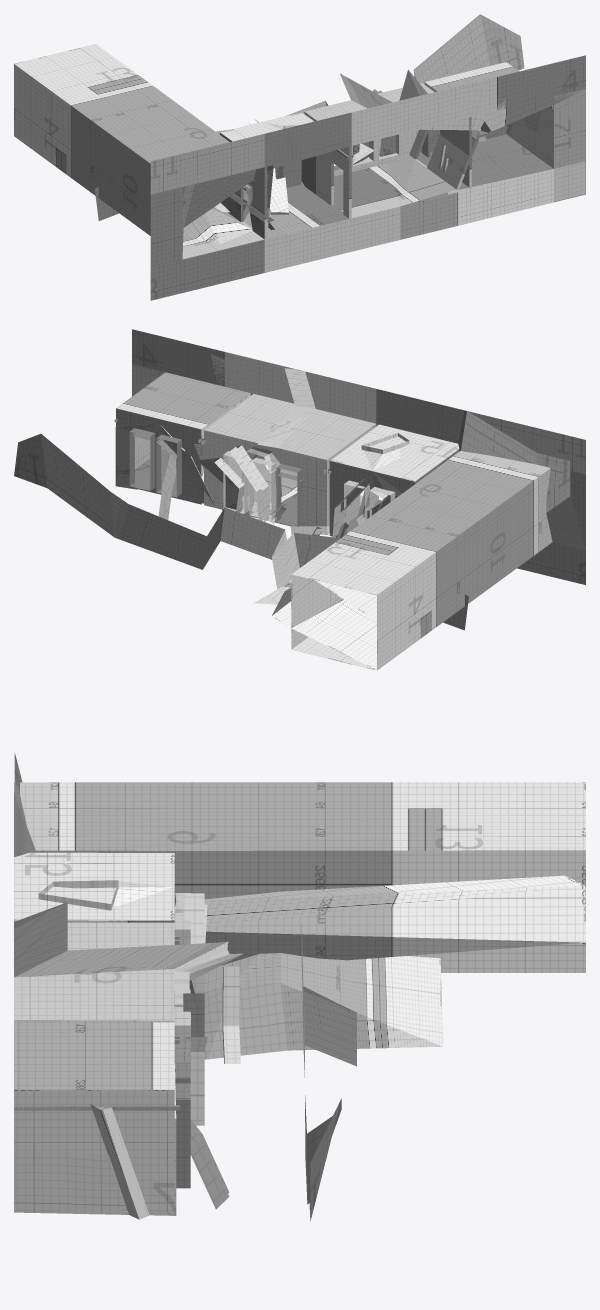
Rendered from MortaredOffice2.fbx.
3 views of the same model, one above another, from view 1: azimuth 30°, elevation 25°; view 2: azimuth 150°, elevation 25°; view 3: azimuth 270°, elevation 25° (orthographic). The views are drawn at different scales.
Parts seen in each view (by area): view 1: presOffBlackWall01001Rev.001, MortaredOffice; view 2: presOffBlackWall01001Rev.001, MortaredOffice; view 3: presOffBlackWall01001Rev.001, MortaredOffice, presOffBlackWall01001Rev.002.
Boxes of the visible parts, x1,y1,x2,y2 form: presOffBlackWall01001Rev.001: (14, 44, 585, 300); MortaredOffice: (95, 14, 585, 258); presOffBlackWall01001Rev.001: (116, 329, 585, 670); MortaredOffice: (14, 337, 585, 670); presOffBlackWall01001Rev.001: (14, 782, 585, 1212); MortaredOffice: (14, 752, 585, 1221); presOffBlackWall01001Rev.002: (14, 936, 179, 1110).
Size of the model in its own units: 28.82 by 9.14 by 18.24.
